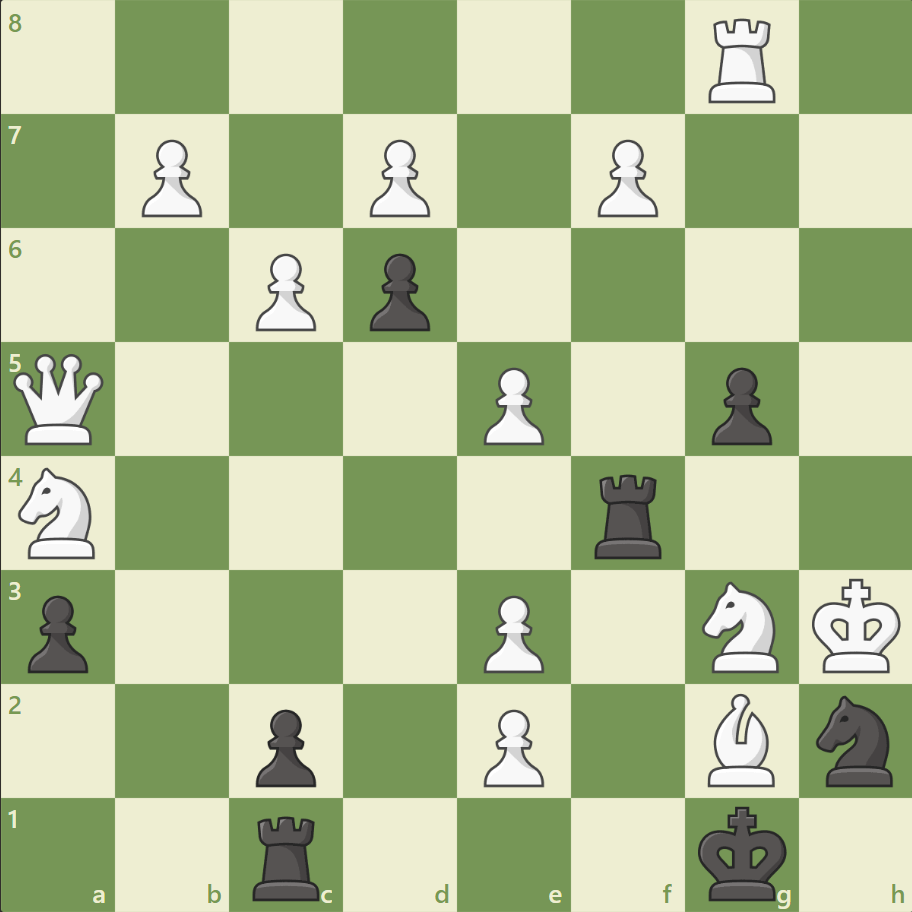B: (698, 687, 782, 790)
K: (806, 571, 906, 679)
N: (11, 461, 108, 564), (692, 575, 789, 677)
P: (133, 132, 208, 223), (247, 246, 322, 337), (474, 359, 549, 450), (474, 586, 549, 677), (474, 700, 549, 791), (361, 132, 435, 223), (588, 132, 662, 223)
Q: (10, 349, 109, 449)
R: (700, 12, 783, 109)
k: (692, 798, 792, 906)
n: (806, 688, 903, 791)
p: (701, 359, 776, 450), (20, 586, 95, 677), (247, 700, 322, 791), (361, 246, 435, 337)
r: (246, 806, 329, 904), (587, 466, 670, 563)
